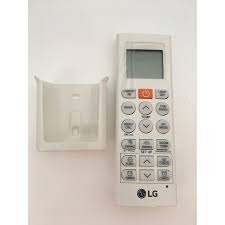remote control: (114, 31, 182, 207)
